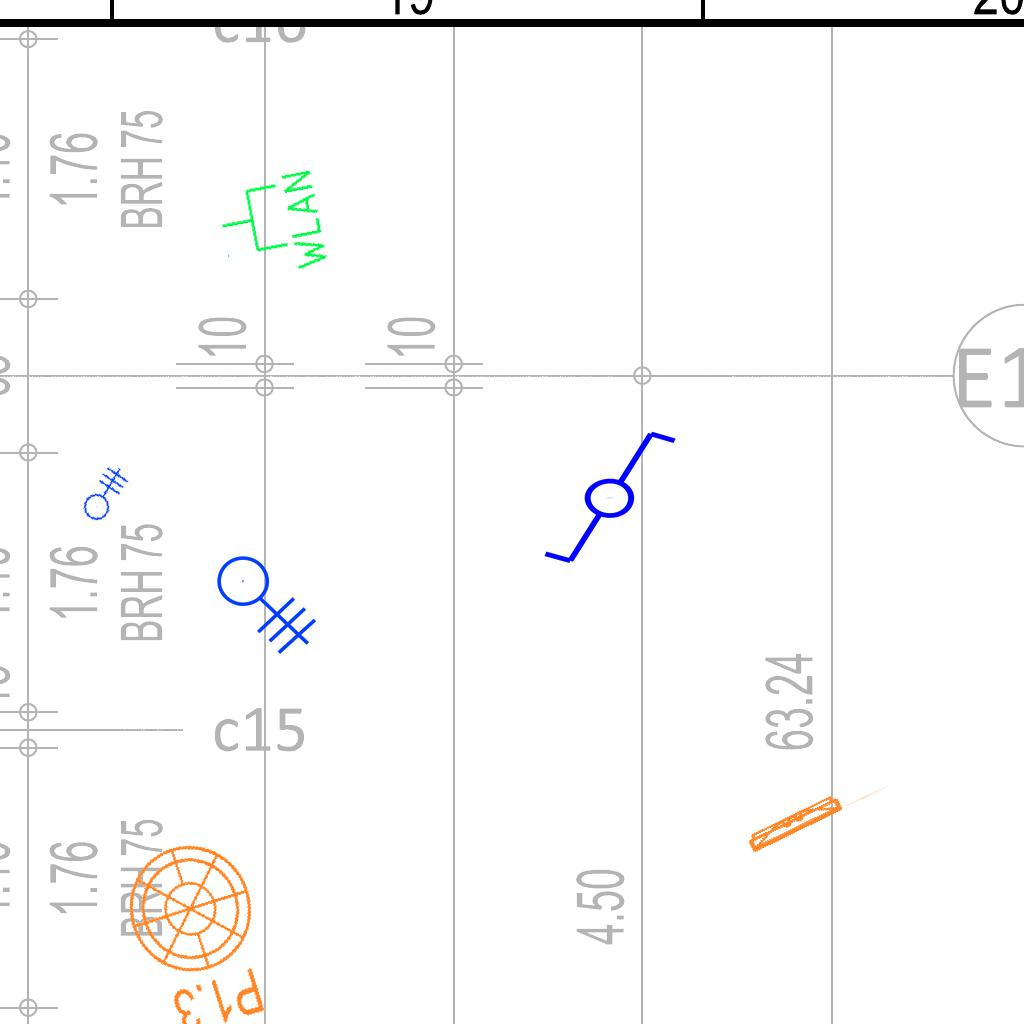Aufbaurundleuchte_LED_Treppenhaus: (99, 826, 292, 1024)
Elektroanschluss_allgemein_400V_Geraeteanschlussdose_400V: (216, 539, 329, 655), (66, 457, 136, 525)
Sicherheitsleuchte_Wandeinbau: (739, 765, 894, 858)
WLAN: (210, 165, 334, 288)
Wechselschalter: (523, 424, 680, 568)
